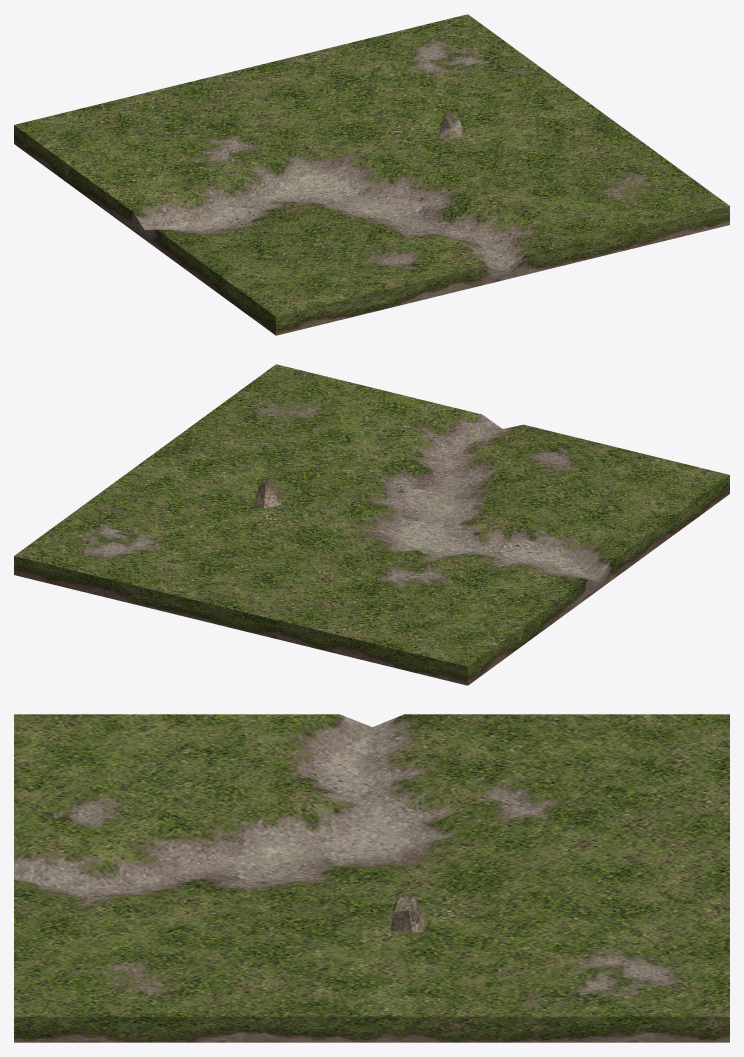
The model's file is map004.FBX.
The picture shows the model from 3 angles, top to bottom: view 1: azimuth 30°, elevation 25°; view 2: azimuth 150°, elevation 25°; view 3: azimuth 270°, elevation 25°; orthographic projection. The views are drawn at different scales.
Visible parts, largest first — view 1: map004; view 2: map004, Box039; view 3: map004, Box039.
Part boxes in pixels (x1=…): map004: x1=14, y1=14, x2=729, y2=335; map004: x1=14, y1=364, x2=729, y2=685; Box039: x1=254, y1=478, x2=281, y2=508; map004: x1=14, y1=714, x2=729, y2=1042; Box039: x1=390, y1=893, x2=426, y2=933.
Size of the model in its own units: 100 by 8.54 by 100.
